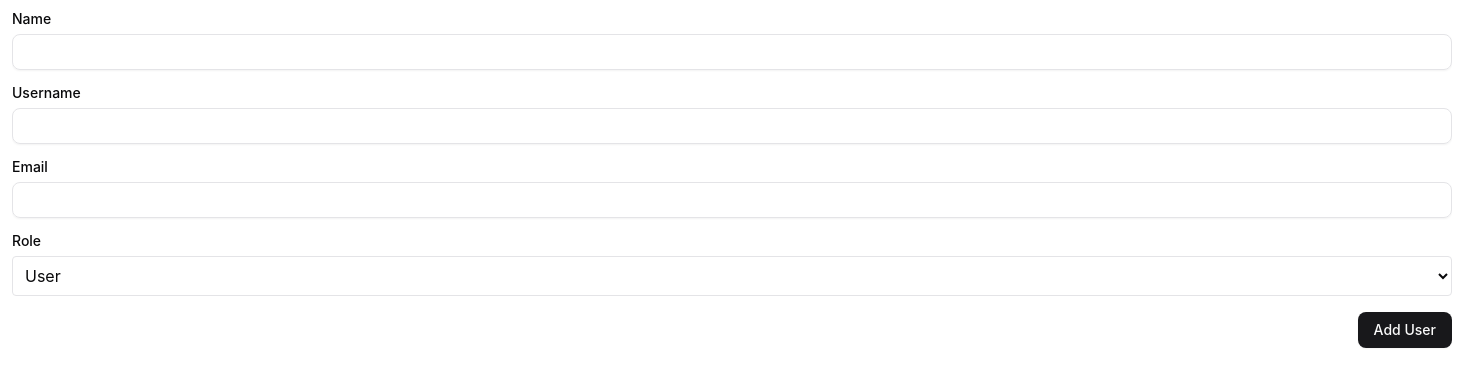
Scenario: AddUserForm › disables submit button and shows loading text while submitting
# Fill the form
In the field labelled "Name": (732, 52) [12,34,1452,70], type "John Doe"
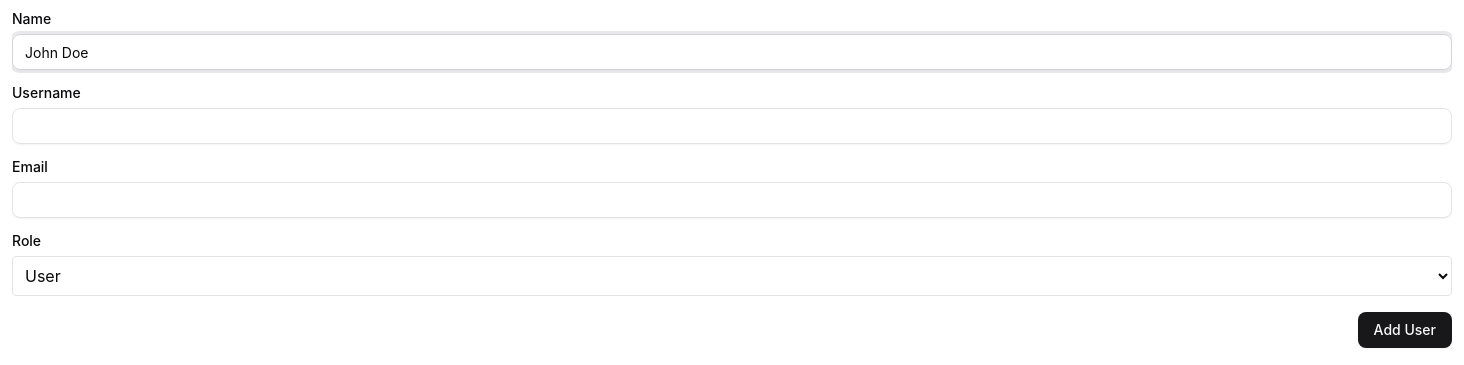
In the field labelled "Username": (732, 126) [12,108,1452,144], type "johndoe"
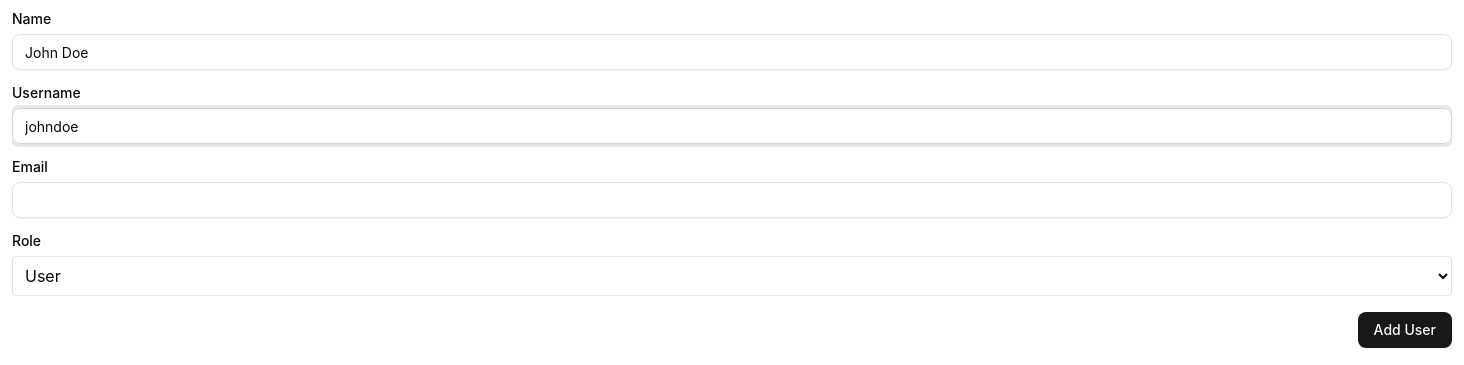
In the field labelled "Email": (732, 200) [12,182,1452,218], type "john@exemple.com"
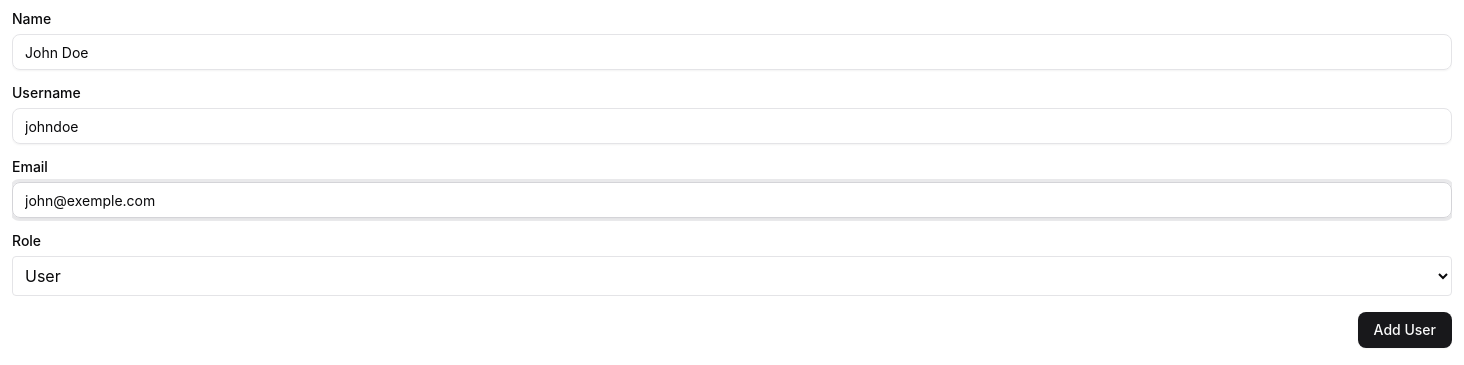
Select "Admin" in the dropdown labelled "Role": (732, 276) [12,256,1452,296]
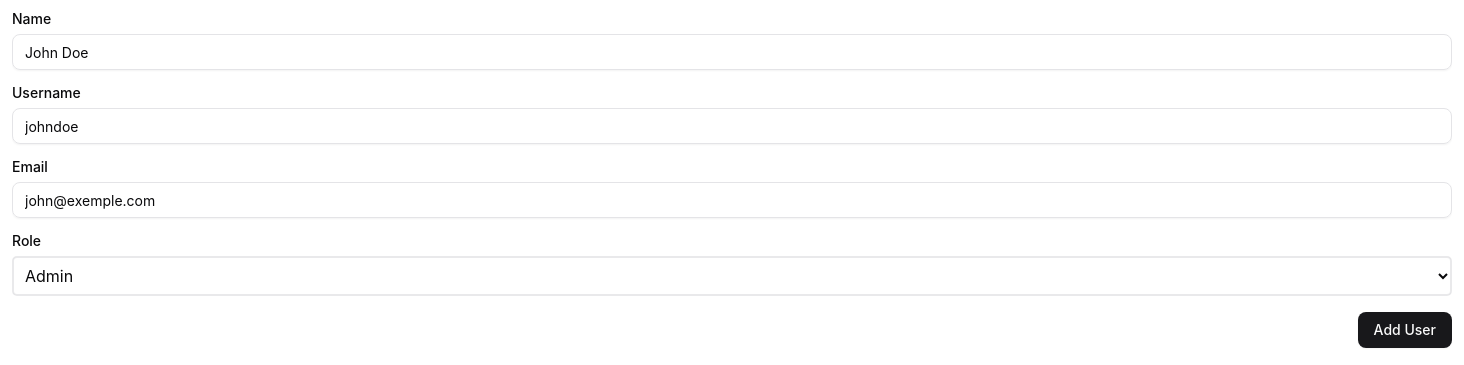
Click the button "Add User": (1405, 330) [1358,312,1452,348]
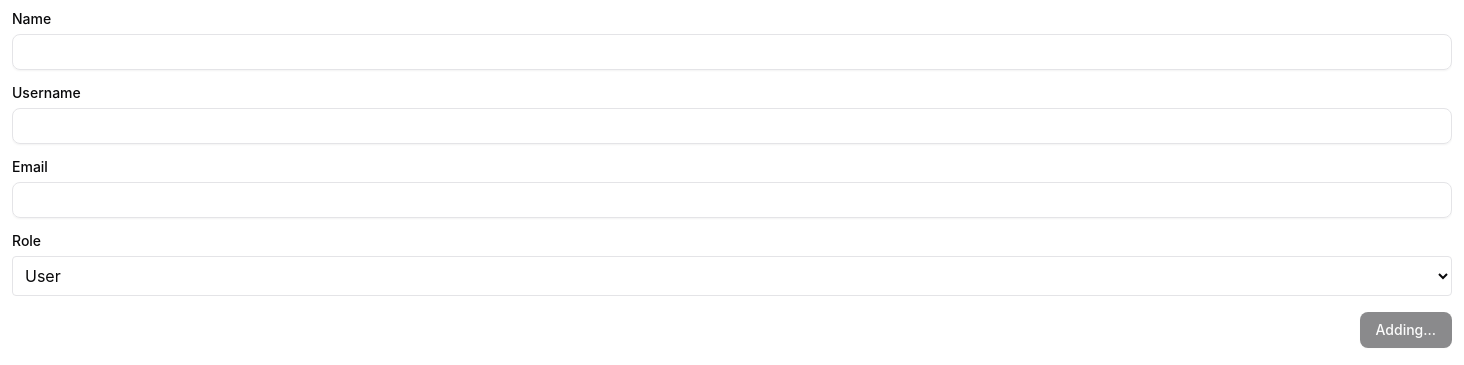
Check: the button named "Add User" is disabled, box [1360,312,1452,348]
Check: the button named "Add User" reads "Adding...", box [1360,312,1452,348]
